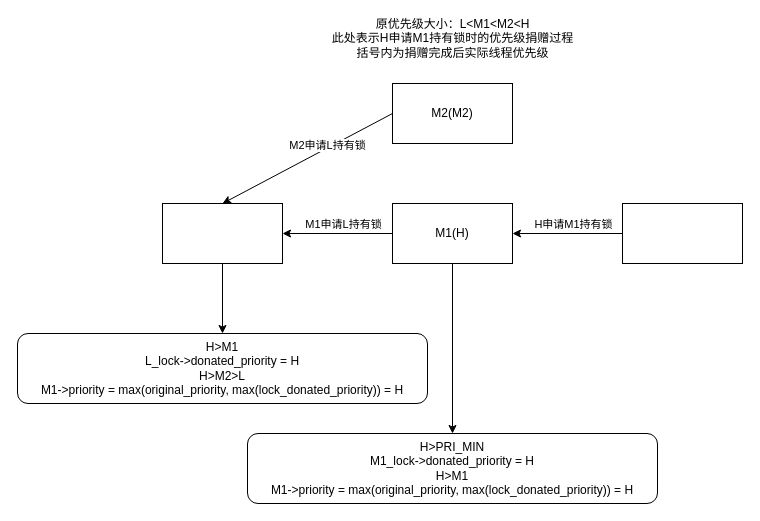
Image size: 760x521. Some labels were removed from this diagram. Each missing label, with the centre of its shape:
H(H): [682,233]
L(H): [222,233]
